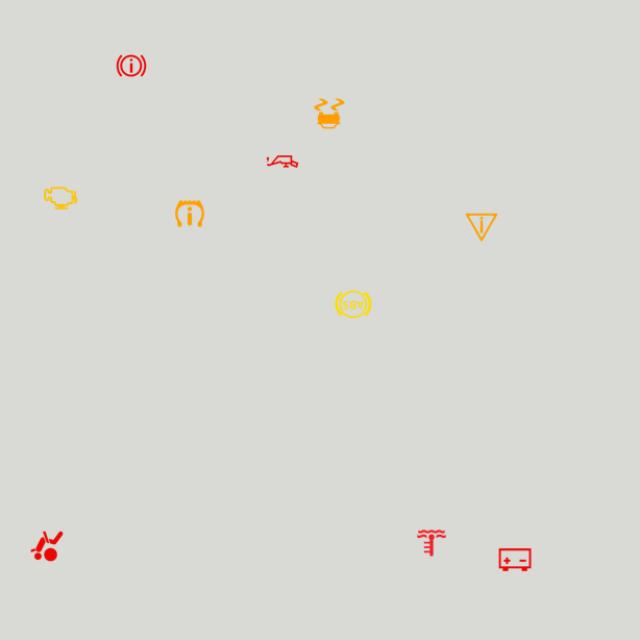Anti Lock Braking System: (334, 285, 373, 324)
Braking System Issue: (112, 46, 151, 85)
Charging System Issue: (495, 540, 535, 579)
Check Engine: (41, 178, 80, 218)
Electronic Stability Problem -ESP-: (310, 94, 349, 133)
Engine Overheating Warning Light: (412, 523, 451, 563)
Low Engine Oil Warning Light: (263, 142, 302, 181)
Low Tire Pressure Warning Light: (170, 194, 209, 233)
Master warning light: (462, 207, 501, 247)
SRS-Airbag: (27, 526, 67, 566)
